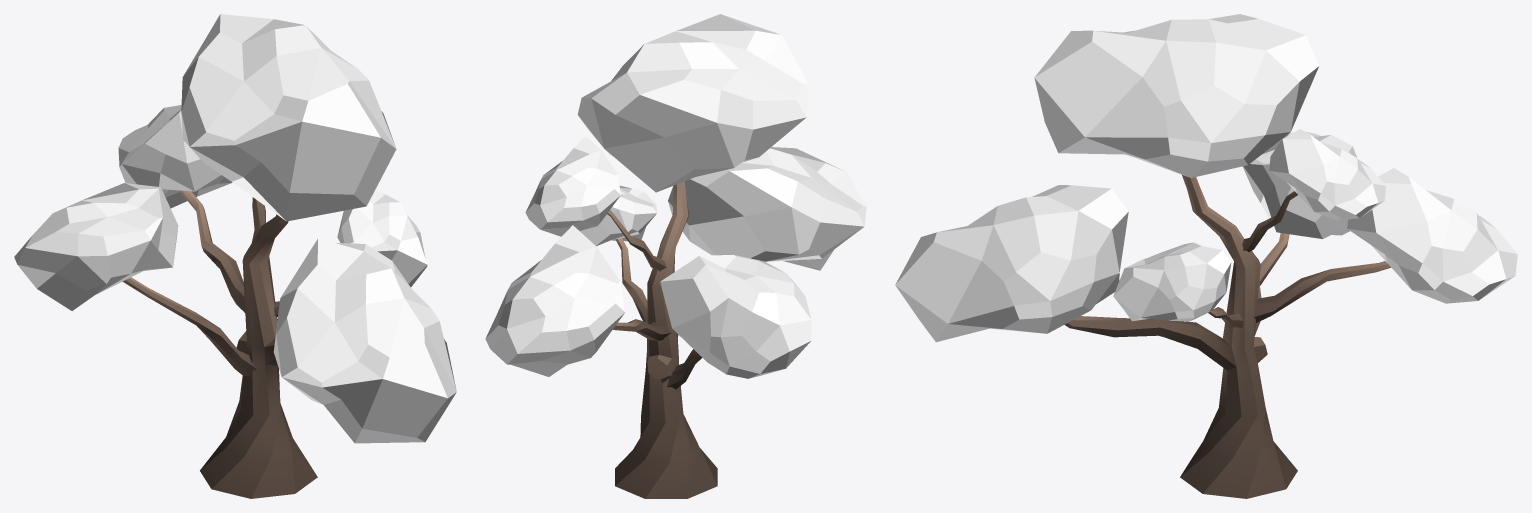
Rendered from m_MapleTreeBig.fbx.
3 views of the same model, side by side, from view 1: azimuth 30°, elevation 25°; view 2: azimuth 150°, elevation 25°; view 3: azimuth 270°, elevation 25° (orthographic). The views are drawn at different scales.
Parts seen in each view (by area): view 1: MapleTreeBig; view 2: MapleTreeBig; view 3: MapleTreeBig.
Boxes of the visible parts, <box> form: MapleTreeBig: <box>14,14,456,498</box>; MapleTreeBig: <box>485,14,866,498</box>; MapleTreeBig: <box>895,14,1517,498</box>.
Bounding box in the file's own units: 303 × 400 × 496.
